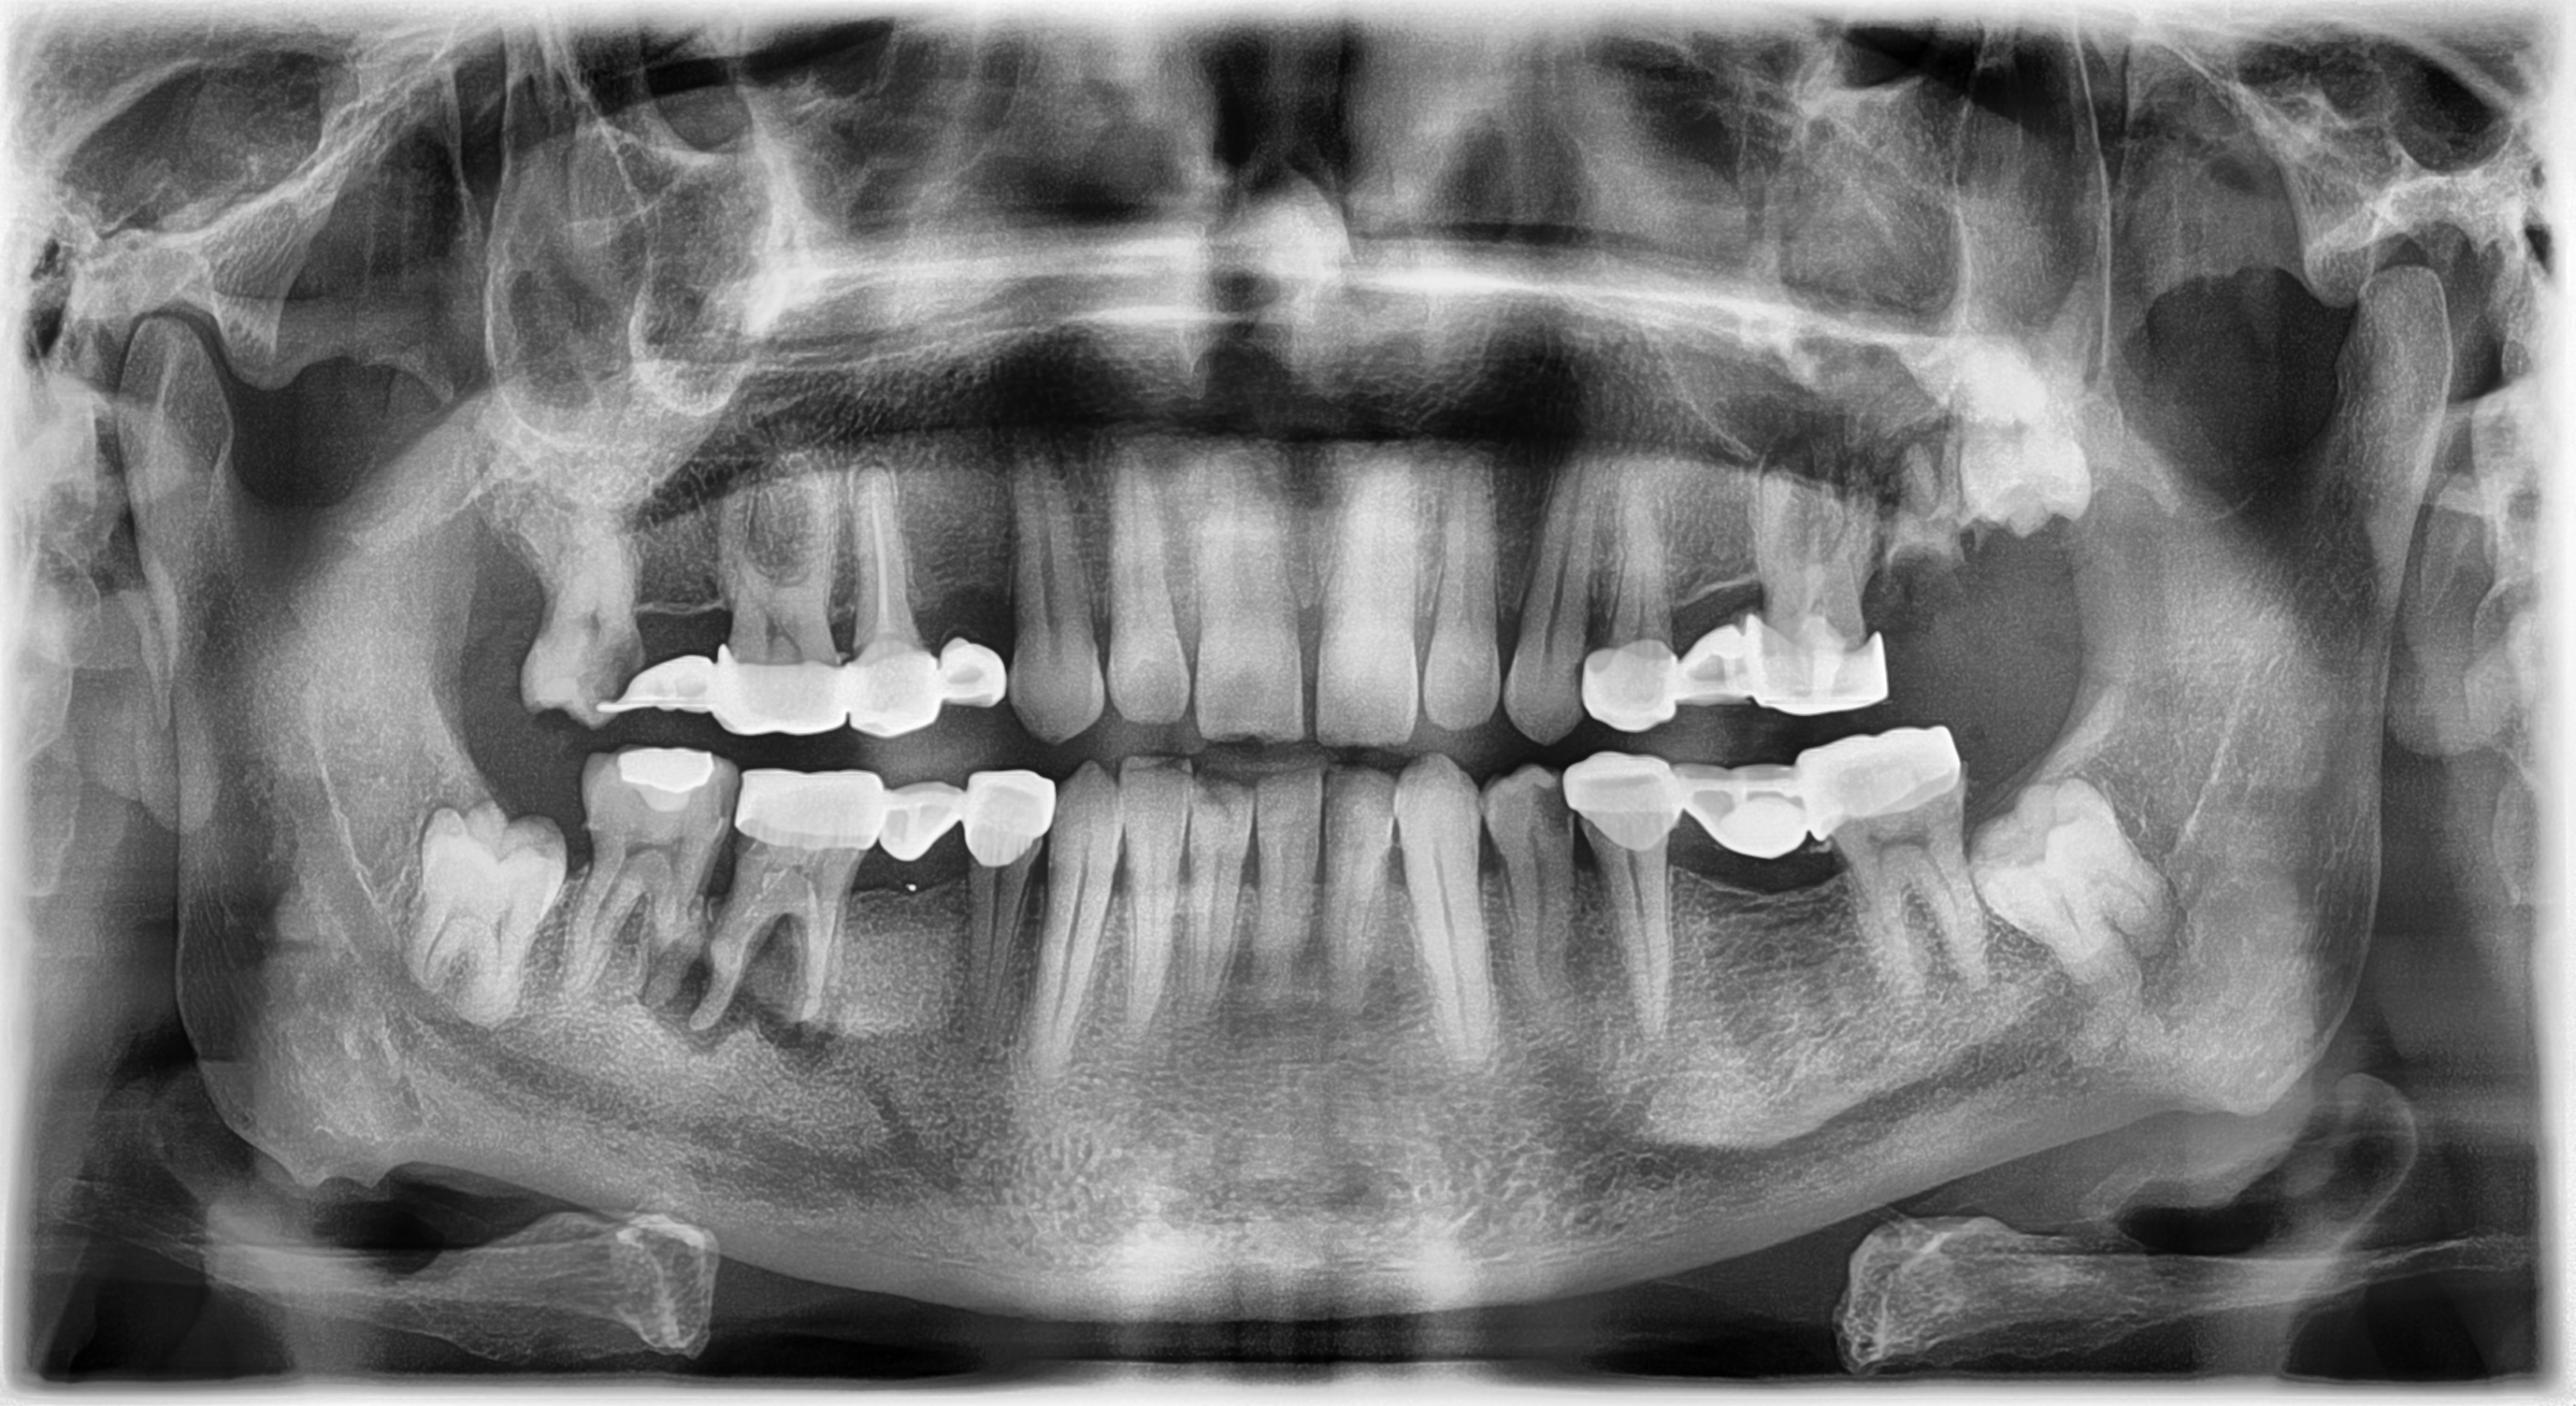cordal: (1963, 734, 2195, 1013), (1935, 294, 2166, 571), (419, 454, 649, 731), (383, 776, 576, 1051)
diastema: (1272, 454, 1342, 755)
zona_dentula: (1645, 810, 1870, 992), (841, 833, 976, 1027), (898, 487, 1020, 672), (618, 488, 739, 674), (1660, 488, 1781, 674)
